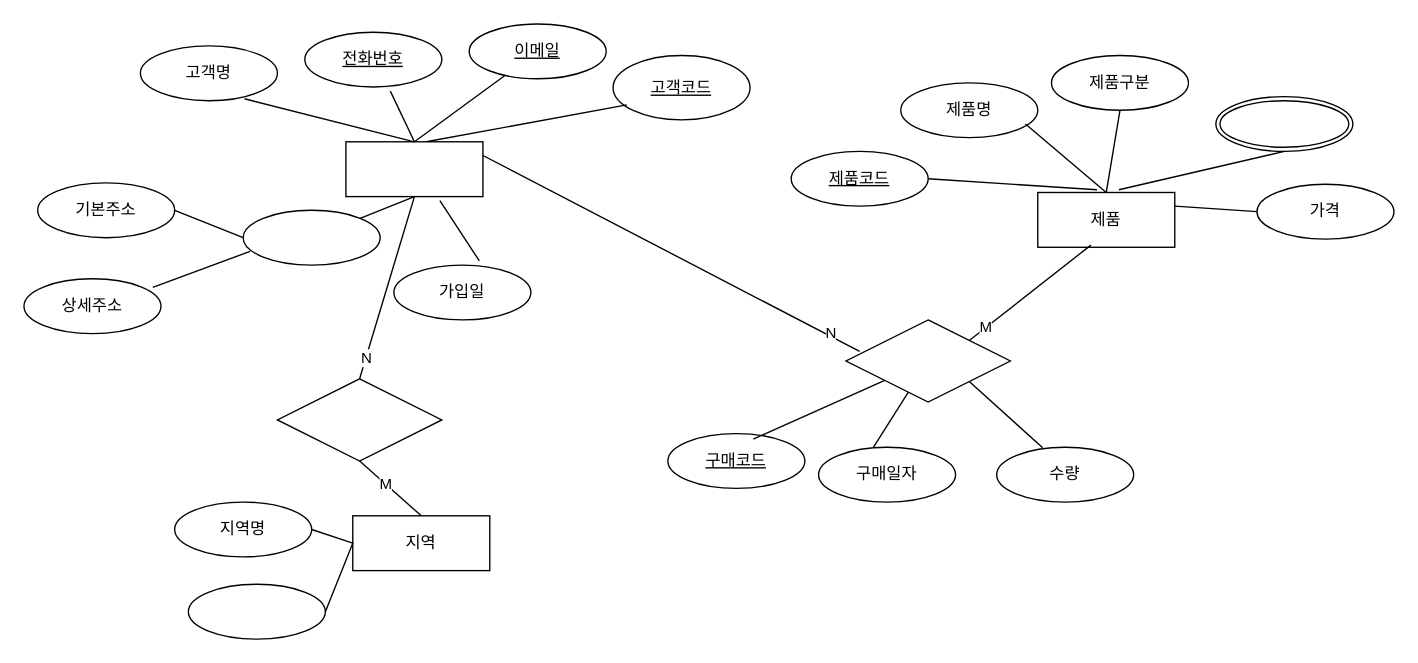
The diagram is 1418 pixels wide and 663 high, and some of its shapes have lost their labels. Here are the shapes that lost their labels. From the top down, the centre of each, then its label:
point 1284,123: 제품색상
point 414,168: 고객
point 311,237: 주소
point 927,360: 구매
point 359,419: 관리
point 256,611: 지역코드
